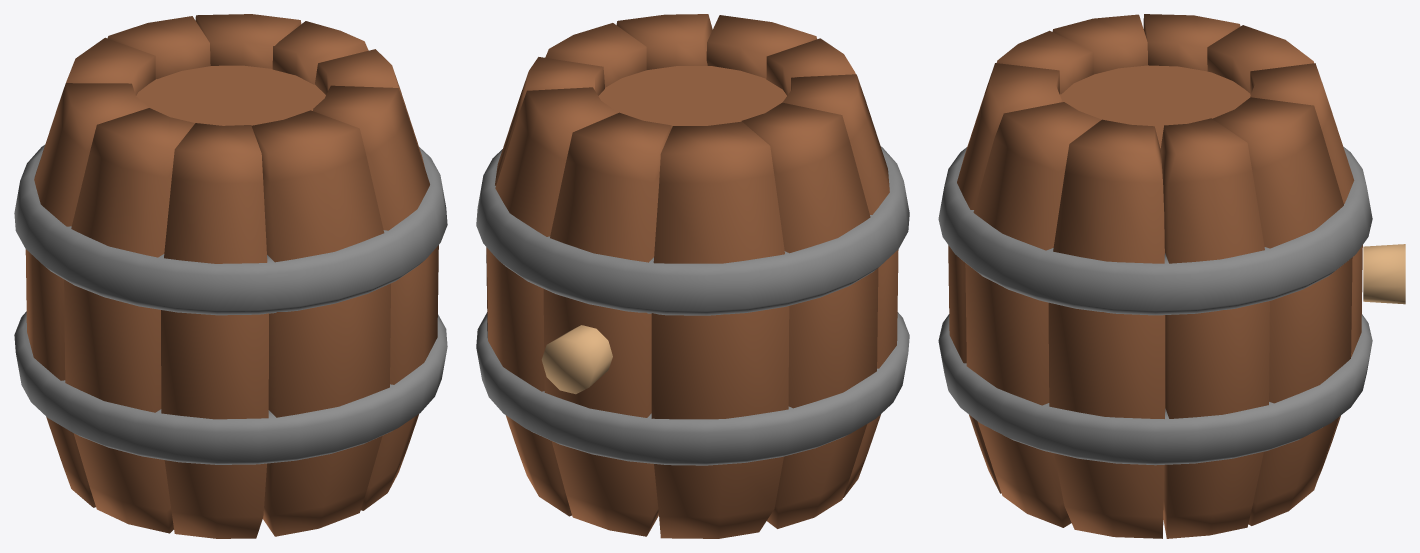
File: Barrel.glb
3 views of the same model, side by side, from view 1: azimuth 30°, elevation 25°; view 2: azimuth 150°, elevation 25°; view 3: azimuth 270°, elevation 25° (orthographic).
Visible parts, largest first — view 1: Barrel; view 2: Barrel; view 3: Barrel.
Boxes of the visible parts, x1=… form: Barrel: x1=14, y1=14, x2=447, y2=538; Barrel: x1=476, y1=14, x2=909, y2=538; Barrel: x1=938, y1=14, x2=1405, y2=538.
Size of the model in its own units: 2.27 by 2.21 by 2.44.
